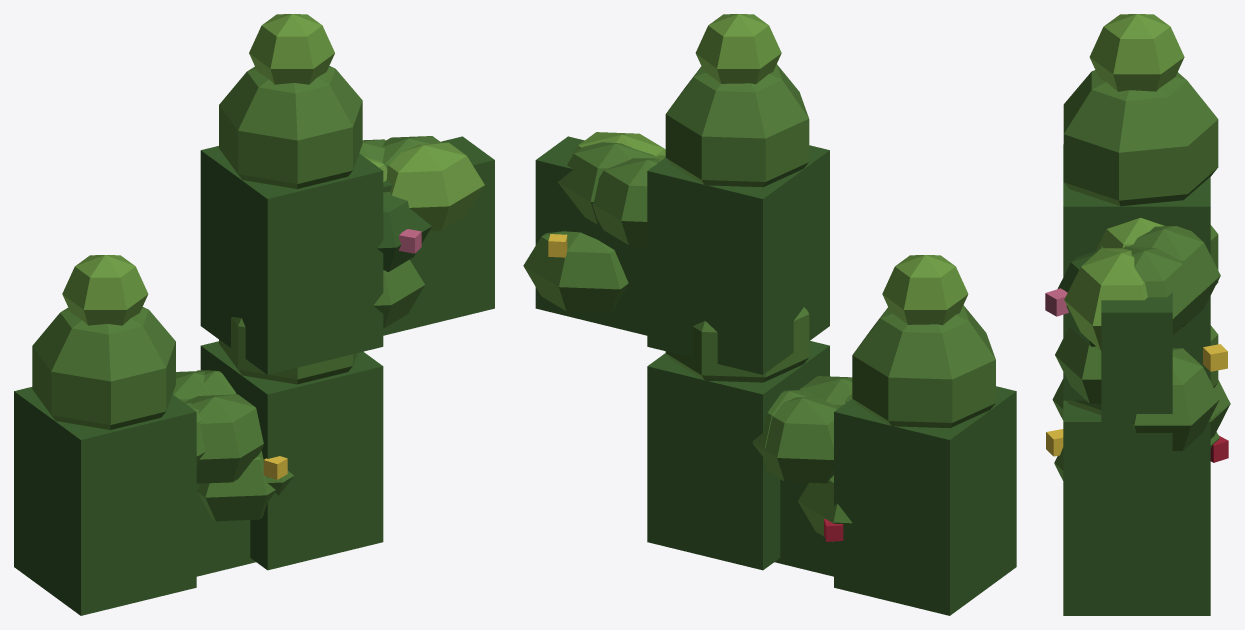
File: boxhedge_step.glb
3 views of the same model, side by side, from view 1: azimuth 30°, elevation 25°; view 2: azimuth 150°, elevation 25°; view 3: azimuth 270°, elevation 25° (orthographic). The views are drawn at different scales.
Visible parts, largest first — view 1: fence_boxhedge_step; view 2: fence_boxhedge_step; view 3: fence_boxhedge_step.
Part boxes in pixels (<box>): fence_boxhedge_step: <box>14,14,494,615</box>; fence_boxhedge_step: <box>523,14,1016,615</box>; fence_boxhedge_step: <box>1045,14,1230,615</box>.
Bounding box in the file's own units: 2.36 × 2.68 × 0.7799.
